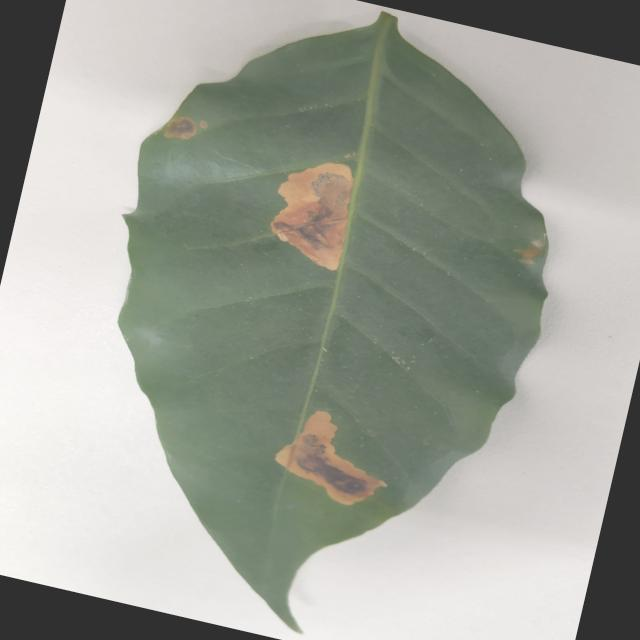KaratDaunKopi: (275, 411, 386, 505), (270, 163, 353, 270), (164, 117, 196, 138)
